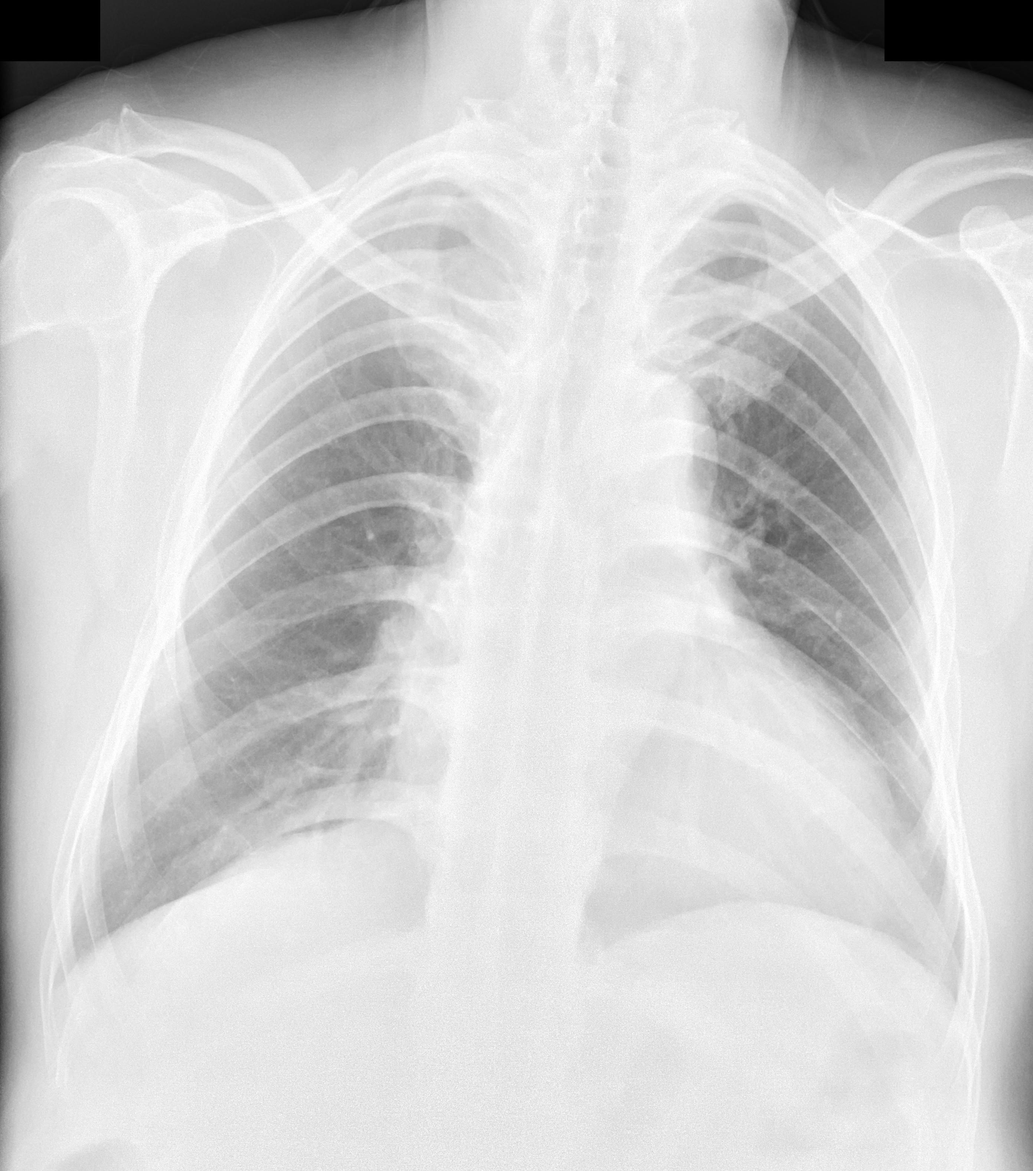Aortic enlargement: (577, 372, 717, 511)
Cardiomegaly: (378, 731, 900, 928)
